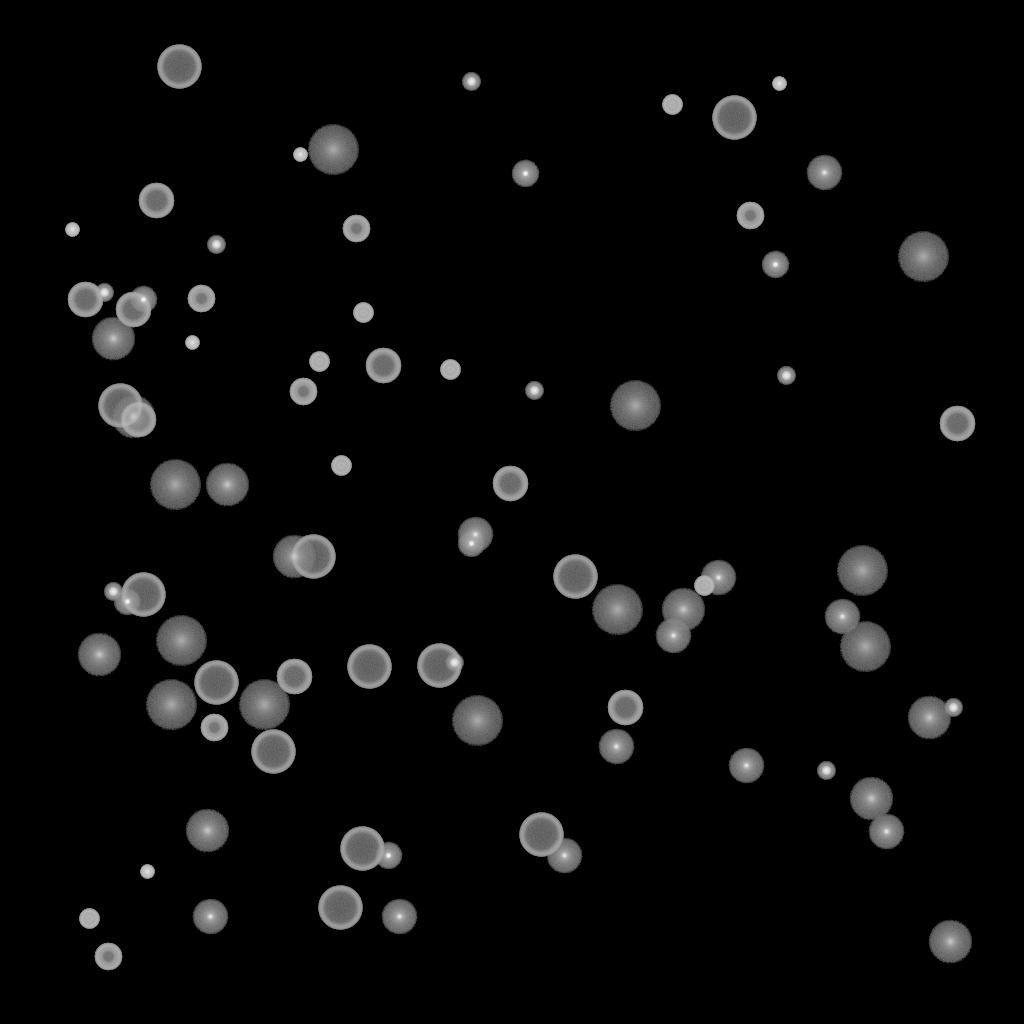depth:-10: (457, 530, 485, 558), (511, 160, 539, 188), (374, 842, 402, 870), (129, 286, 157, 314), (113, 588, 141, 616), (761, 251, 789, 279)
depth:-20: (445, 654, 463, 672), (817, 762, 835, 780), (944, 699, 962, 717), (525, 382, 543, 400), (777, 367, 795, 385), (207, 236, 225, 254), (462, 73, 480, 91), (95, 284, 113, 302), (104, 583, 122, 601)
depth:-30: (185, 336, 199, 350), (140, 865, 154, 879), (293, 148, 307, 162), (772, 77, 786, 91), (65, 223, 79, 237)
depth:-40: (662, 95, 682, 115), (694, 576, 714, 596), (309, 352, 329, 372), (353, 303, 373, 323), (79, 909, 99, 929), (331, 456, 351, 476), (440, 360, 460, 380)
depth:-50: (736, 202, 764, 230), (187, 285, 215, 313), (200, 714, 228, 742), (289, 378, 317, 406), (94, 943, 122, 971), (342, 215, 370, 243)
depth:-60: (365, 348, 401, 384), (492, 466, 528, 502), (607, 690, 643, 726), (115, 292, 151, 328), (120, 402, 156, 438), (67, 282, 103, 318), (276, 659, 312, 695), (138, 183, 174, 219), (939, 406, 975, 442)
depth:-70: (347, 645, 391, 689), (417, 644, 461, 688), (318, 886, 362, 930), (121, 573, 165, 617), (251, 730, 295, 774), (291, 535, 335, 579), (98, 384, 142, 428), (553, 555, 597, 599), (194, 661, 238, 705), (157, 45, 201, 89), (340, 827, 384, 871), (519, 813, 563, 857), (712, 96, 756, 140)
depth:0: (381, 899, 417, 935), (868, 814, 904, 850), (806, 155, 842, 191), (700, 560, 736, 596), (546, 838, 582, 874), (728, 748, 764, 784), (824, 599, 860, 635), (598, 729, 634, 765), (655, 618, 691, 654), (457, 517, 493, 553), (192, 899, 228, 935)
depth:10: (661, 588, 705, 632), (907, 696, 951, 740), (111, 395, 155, 439), (272, 535, 316, 579), (928, 920, 972, 964), (77, 633, 121, 677), (849, 777, 893, 821), (185, 809, 229, 853), (205, 463, 249, 507), (91, 317, 135, 361)
depth:20: (609, 381, 661, 431), (307, 125, 359, 175), (897, 232, 949, 282), (451, 696, 503, 746), (839, 622, 891, 672), (836, 546, 888, 596), (155, 616, 207, 666), (238, 680, 290, 730), (591, 585, 643, 635), (145, 680, 197, 730), (149, 460, 201, 510)
